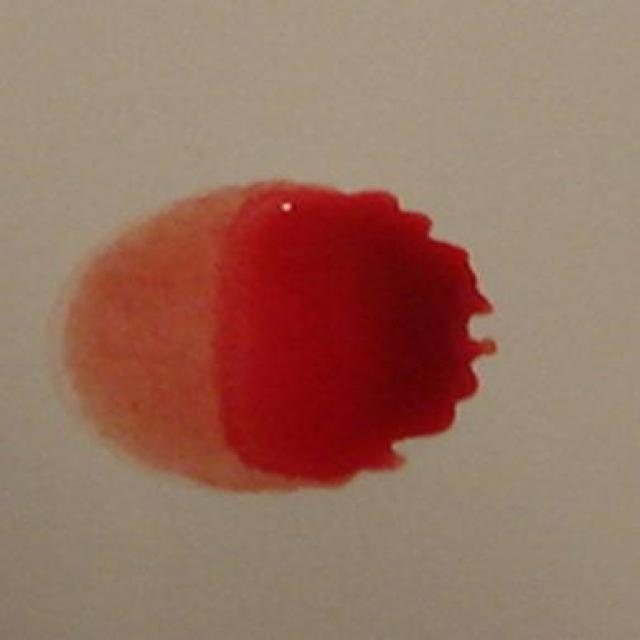flood: (54, 162, 512, 501)
